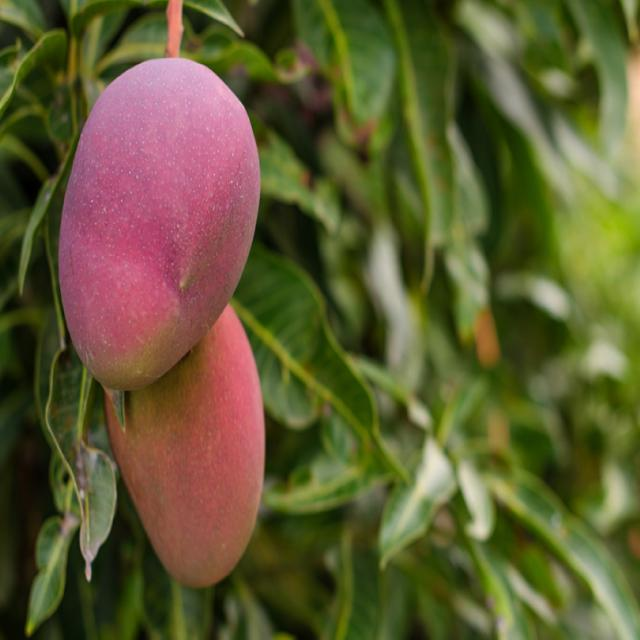mango: (50, 46, 264, 375), (84, 314, 283, 590)
